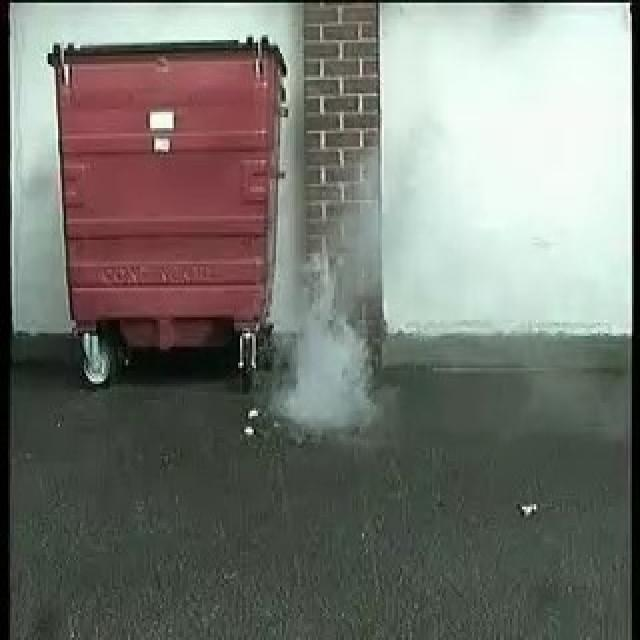smoke: (288, 310, 373, 436)
